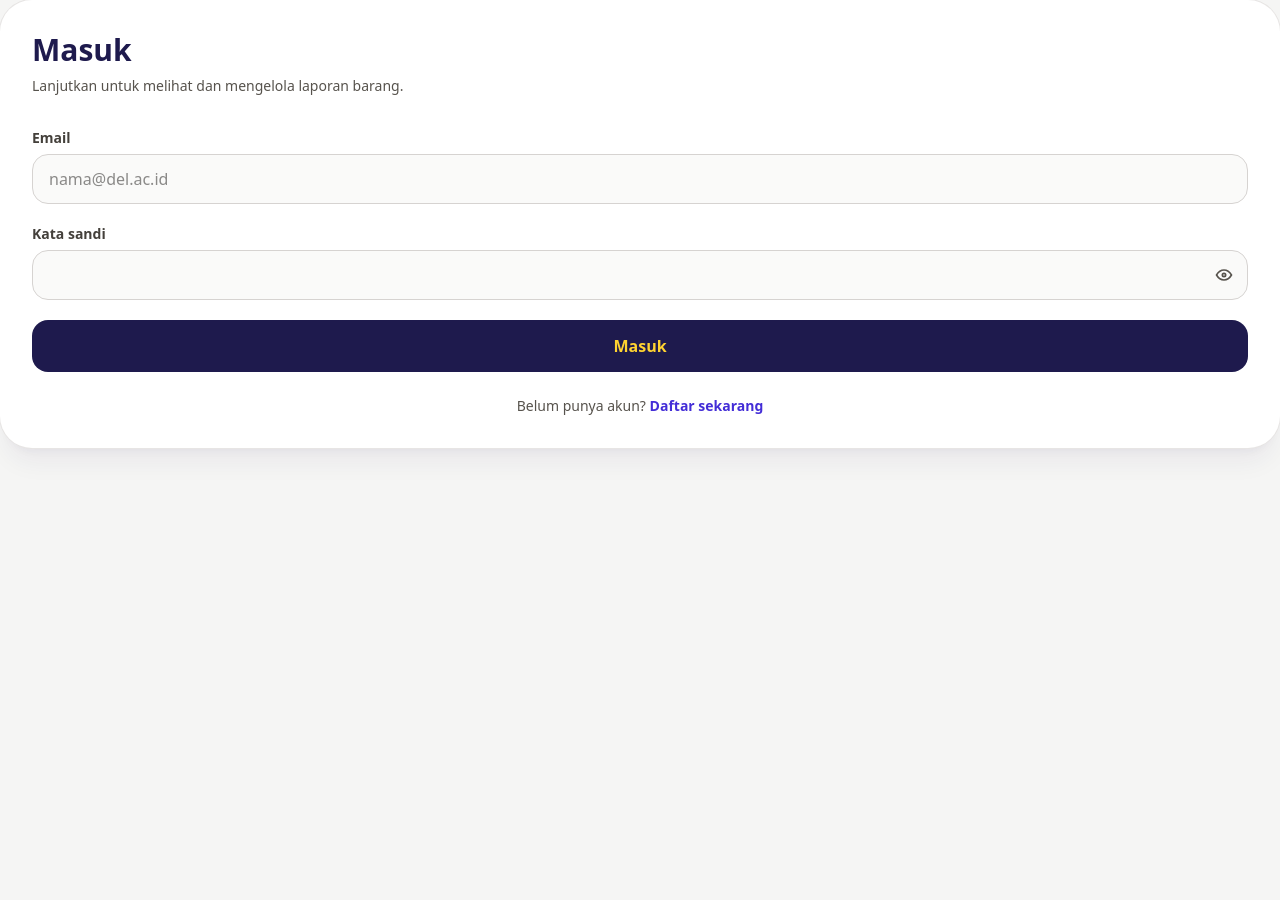
Test: LoginPage › memiliki tautan ke halaman daftar
The image size is (1280, 900).
Click the link "Daftar sekarang" at (706,406), box [650,396,763,415]
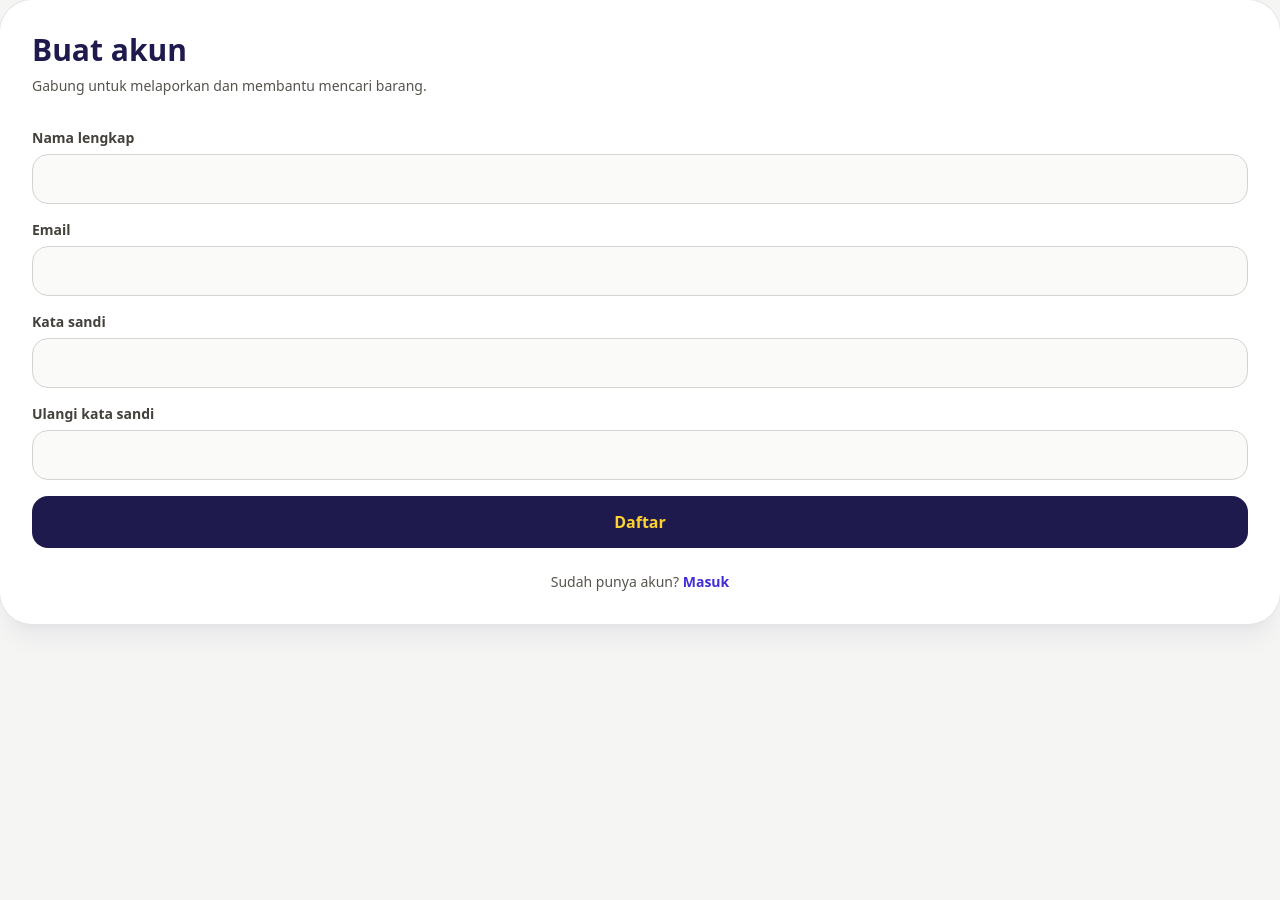
Result: the heading "Buat akun" is shown at [32,29,187,70]
